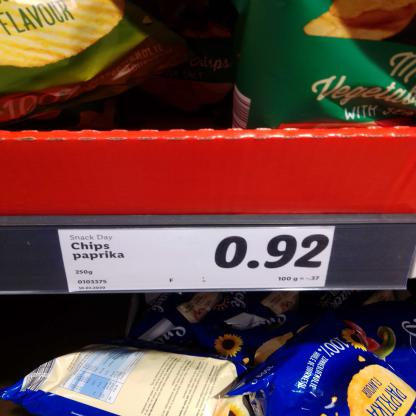prtg: (59, 227, 336, 292)
